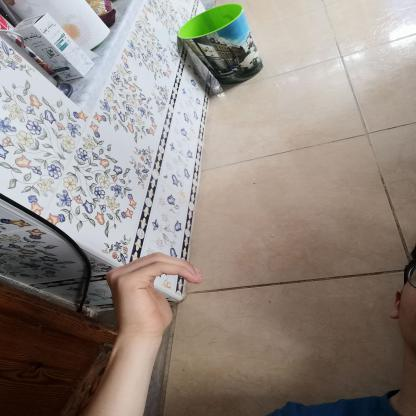HAA: (90, 245, 216, 343)
